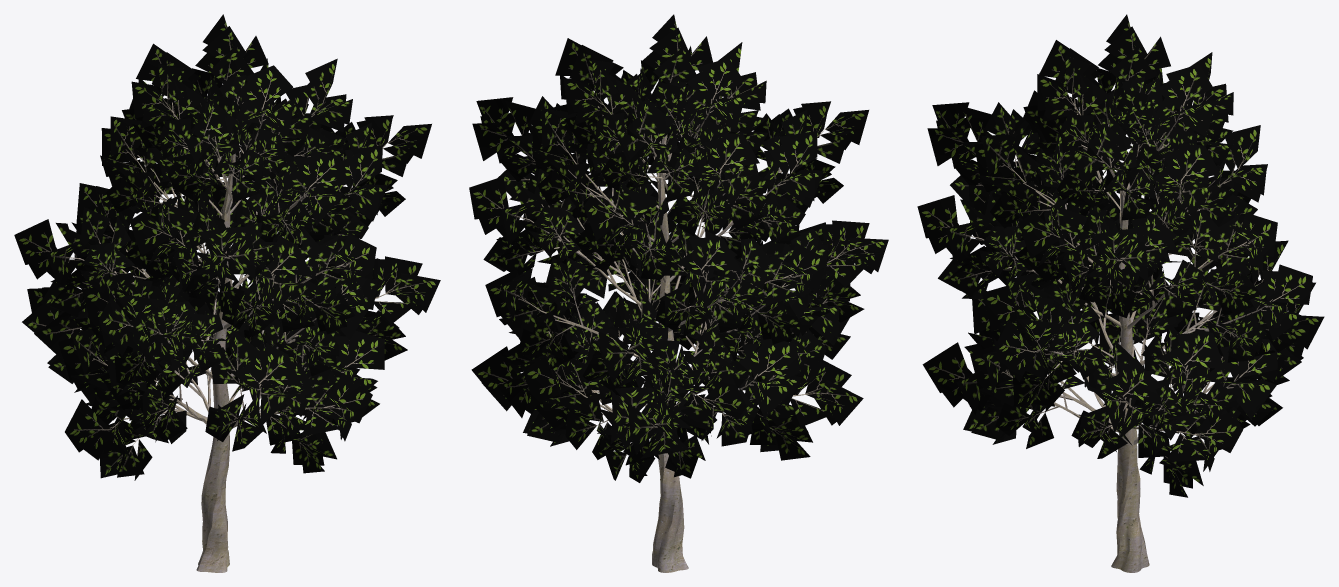
Rendered from tree_beech.glb.
The picture shows the model from 3 angles, left to right: view 1: azimuth 30°, elevation 25°; view 2: azimuth 150°, elevation 25°; view 3: azimuth 270°, elevation 25°; orthographic projection.
Parts seen in each view (by area): view 1: m; view 2: m; view 3: m.
Boxes of the visible parts, x1=… form: m: x1=14, y1=14, x2=440, y2=572; m: x1=469, y1=14, x2=888, y2=572; m: x1=917, y1=14, x2=1324, y2=572.
Size of the model in its own units: 0.7609 by 1 by 0.7045.
Materials: 2 (2 with a texture image).
